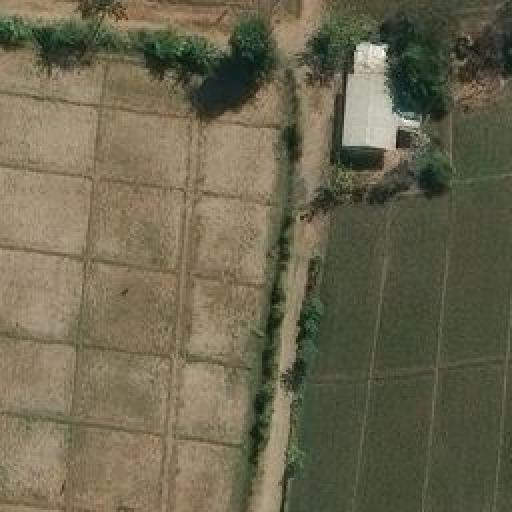manzanas: (336, 40, 429, 165)
